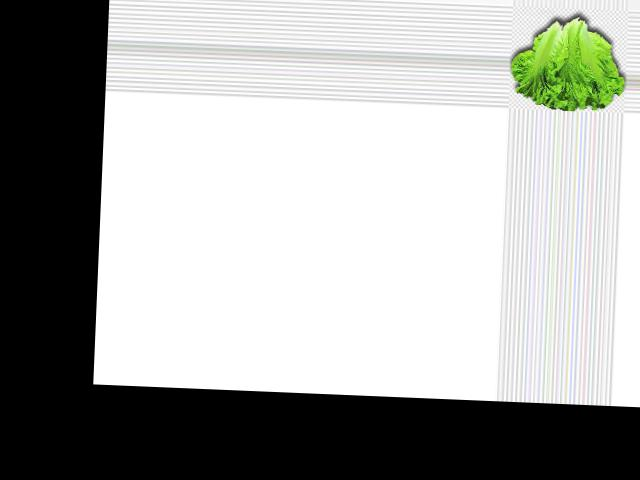lettuce: (506, 12, 625, 112)
